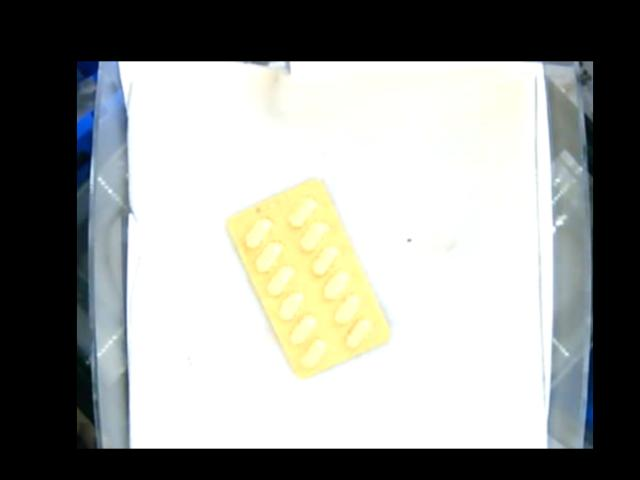Medicine: (227, 178, 388, 380)
